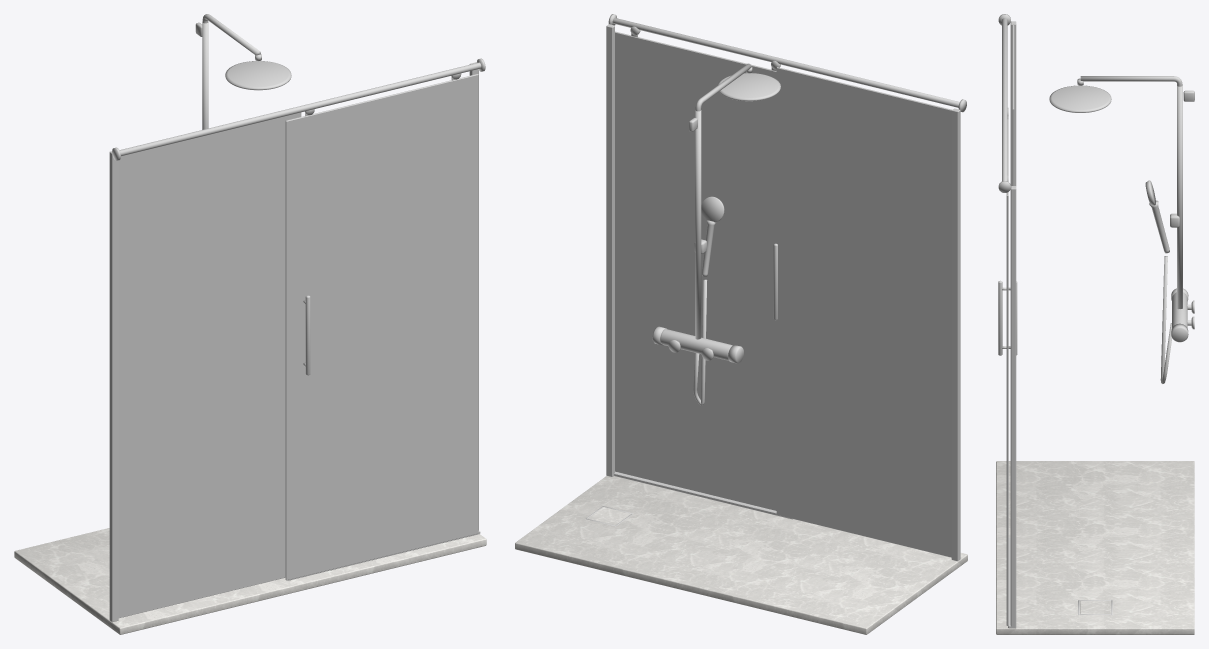
The model's file is ducha_corredera_80x160.glb.
The picture shows the model from 3 angles, left to right: view 1: azimuth 30°, elevation 25°; view 2: azimuth 150°, elevation 25°; view 3: azimuth 270°, elevation 25°; orthographic projection. The views are drawn at different scales.
Visible parts, largest first — view 1: ducha_corredera_80x160; view 2: ducha_corredera_80x160; view 3: ducha_corredera_80x160.
Boxes of the visible parts, x1=… form: ducha_corredera_80x160: x1=14, y1=14, x2=486, y2=634; ducha_corredera_80x160: x1=515, y1=14, x2=967, y2=634; ducha_corredera_80x160: x1=996, y1=14, x2=1194, y2=634.
Size of the model in its own units: 1.6 by 2.11 by 0.8005.
3 materials, 1 textured.
